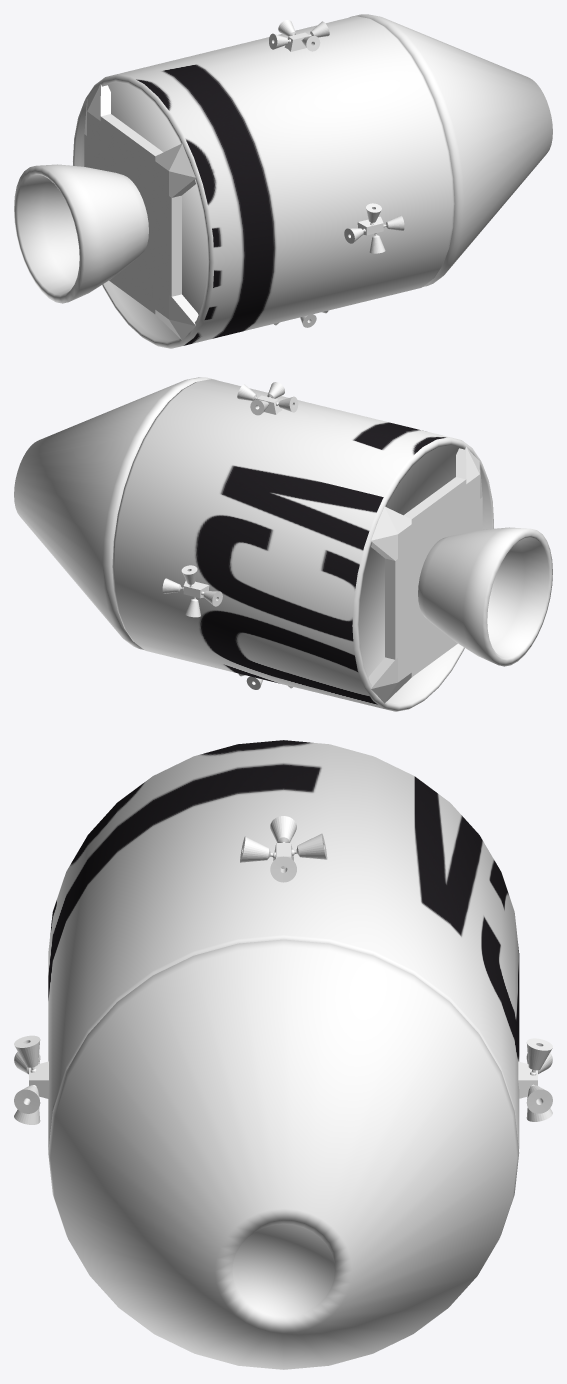
Rendered from kocmoc.dae.
3 renders of one model, top to bottom at view 1: azimuth 30°, elevation 25°; view 2: azimuth 150°, elevation 25°; view 3: azimuth 270°, elevation 25°, orthographic. The views are drawn at different scales.
Parts seen in each view (by area): view 1: Cube_002; view 2: Cube_002; view 3: Cube_002.
Boxes of the visible parts, x1,y1,x2,y2 form: Cube_002: (14, 14, 552, 348); Cube_002: (14, 377, 552, 711); Cube_002: (14, 740, 552, 1369).
Bounding box in the file's own units: 11.96 × 6.87 × 6.85.
